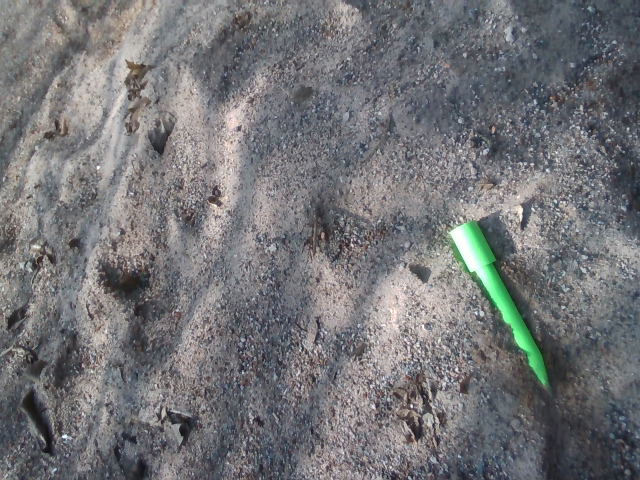Probe: (439, 213, 562, 413)
